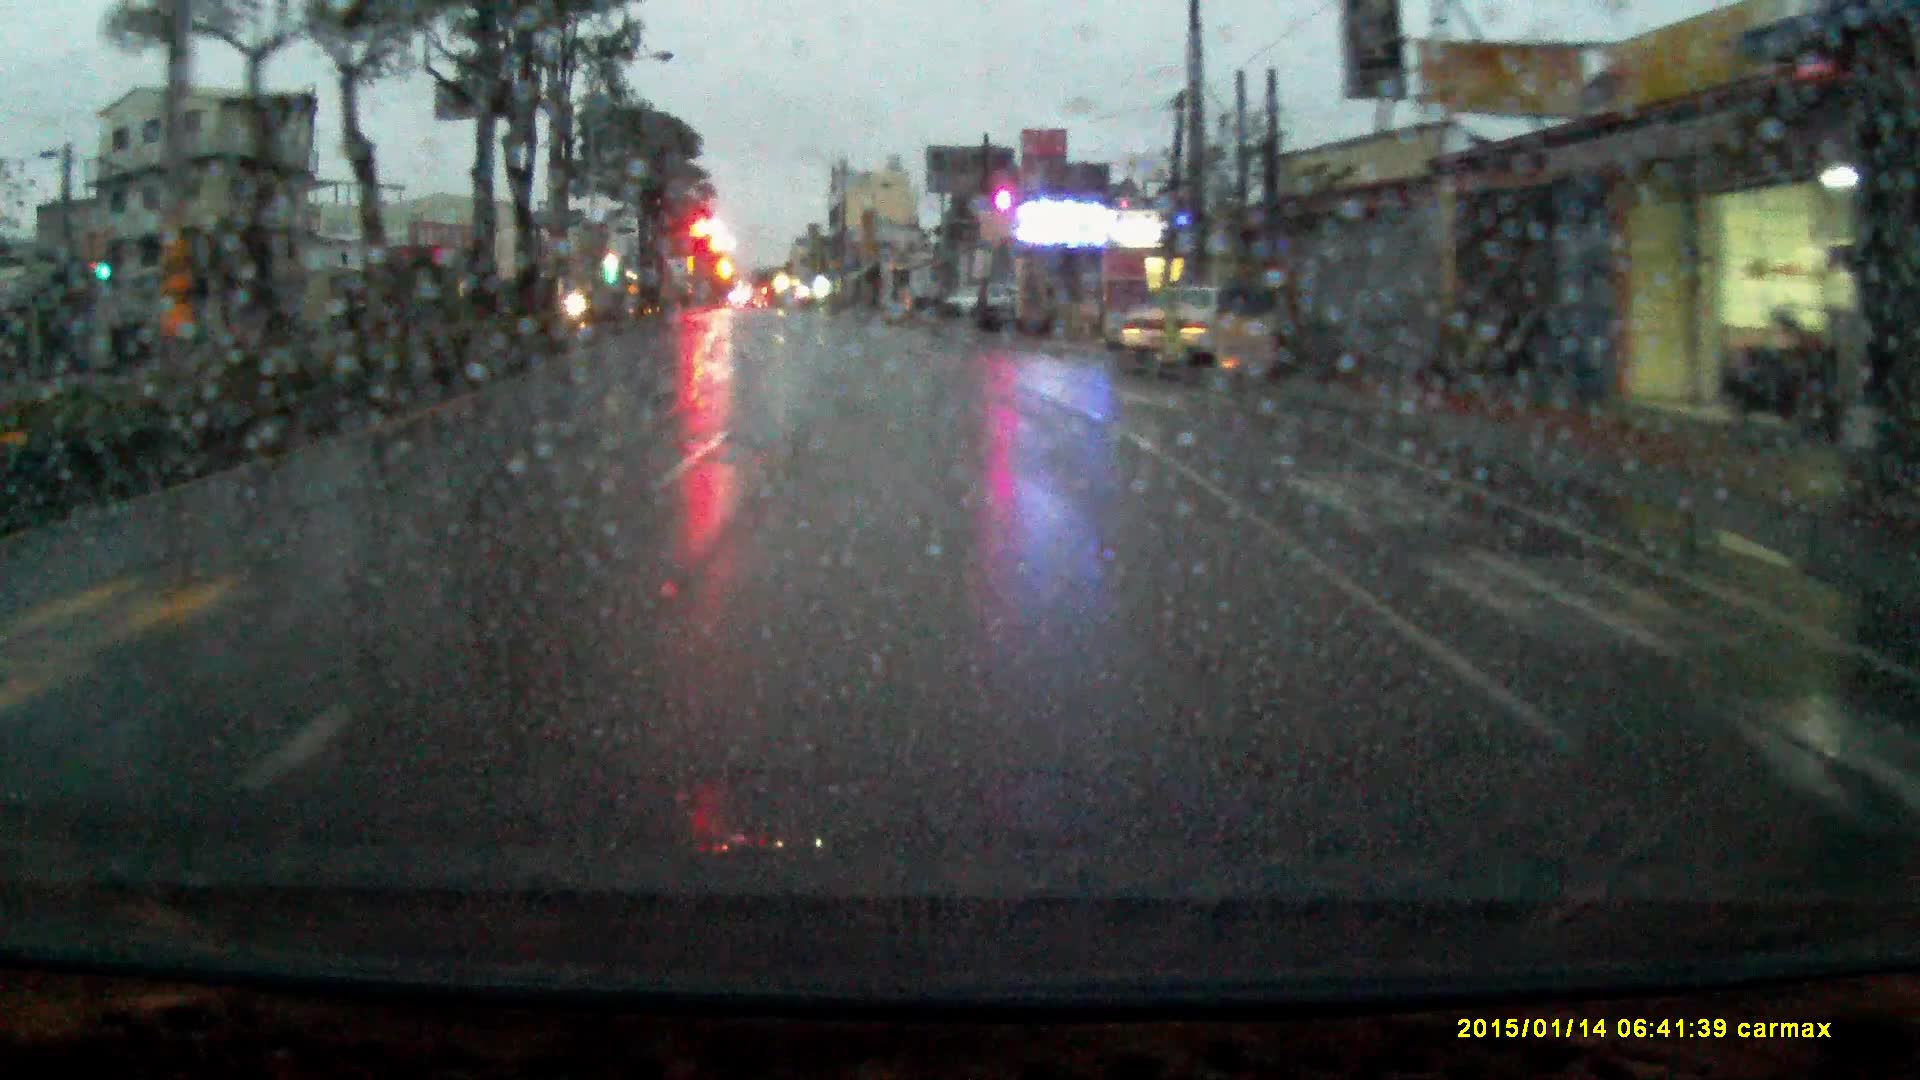vehicle: (1130, 291, 1278, 382), (944, 284, 1023, 320)
